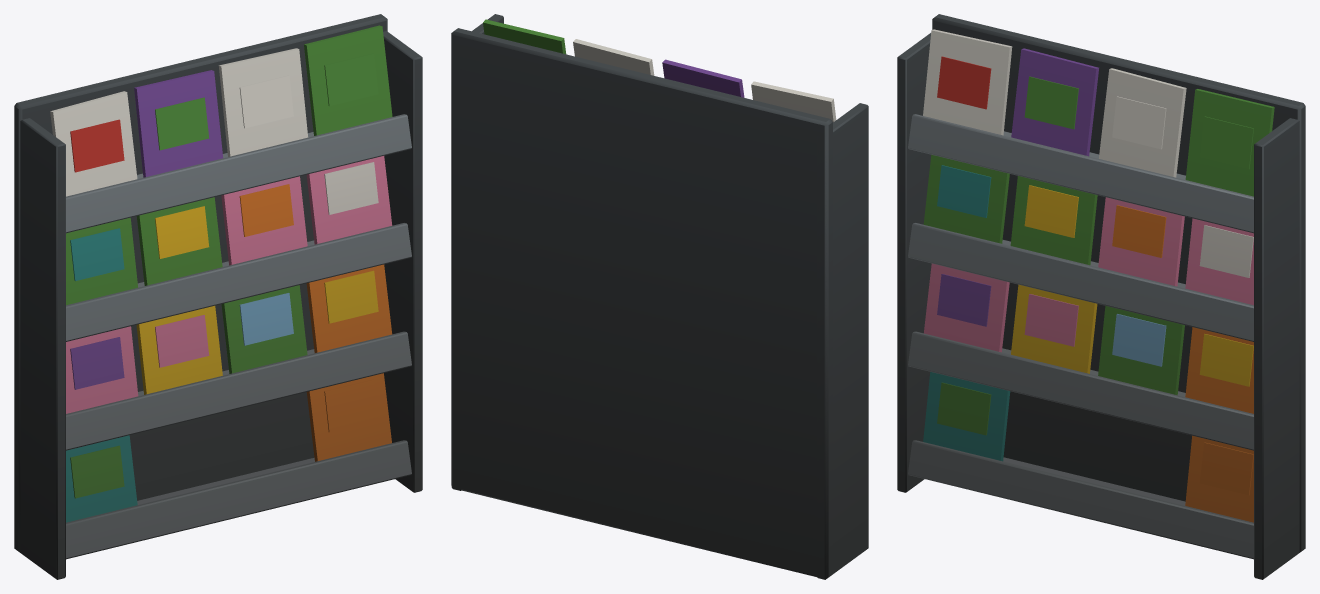
File: 81_presentoir_magazines.fbx
The picture shows the model from 3 angles, left to right: view 1: azimuth 30°, elevation 25°; view 2: azimuth 150°, elevation 25°; view 3: azimuth 330°, elevation 25°; orthographic projection. The views are drawn at different scales.
Parts seen in each view (by area): view 1: Presentoir, Magazines; view 2: Presentoir, Magazines; view 3: Presentoir, Magazines.
Part boxes in pixels (x1,y1,x2,y2): Presentoir: (14,14,422,579); Magazines: (50,25,392,522); Presentoir: (451,14,868,579); Magazines: (483,19,836,122); Presentoir: (897,14,1305,579); Magazines: (923,29,1274,522).
Size of the model in its own units: 0.84 by 0.98 by 0.168.
1 material, 1 textured.
